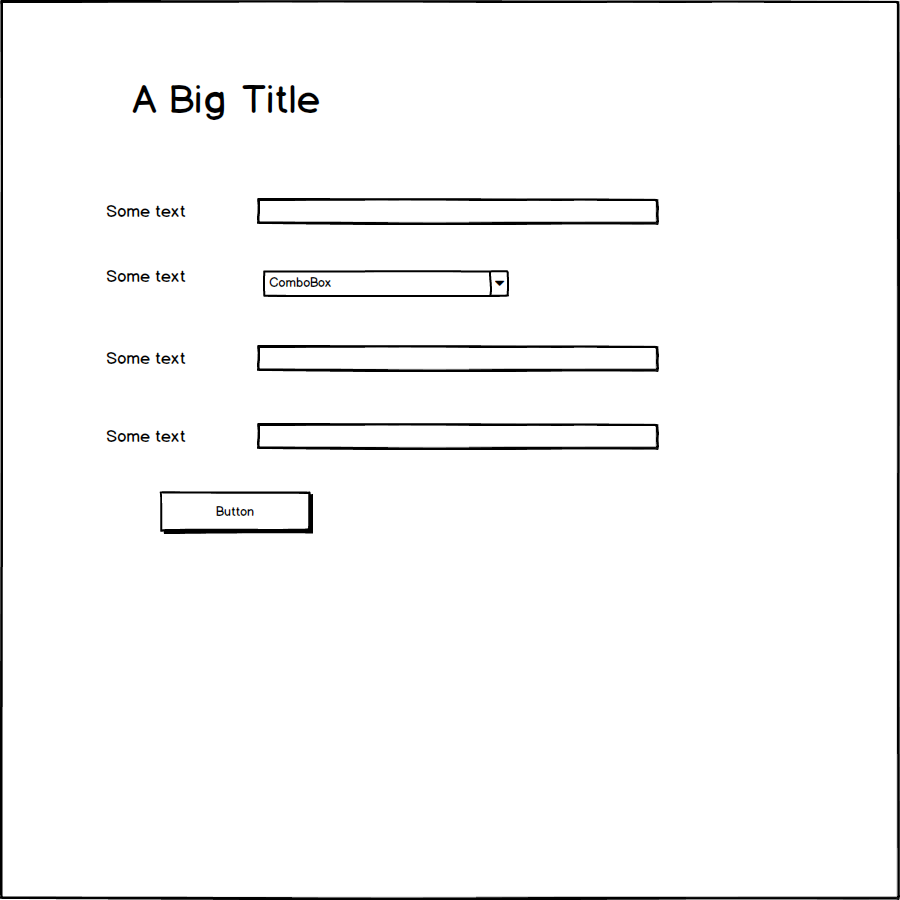button: (155, 484, 319, 544)
h1: (112, 75, 342, 132)
input: (250, 186, 667, 236), (252, 337, 665, 378), (253, 419, 670, 454)
label: (93, 340, 197, 373), (97, 193, 192, 226), (100, 259, 196, 288), (101, 425, 193, 454)
select_box: (256, 264, 518, 303)
